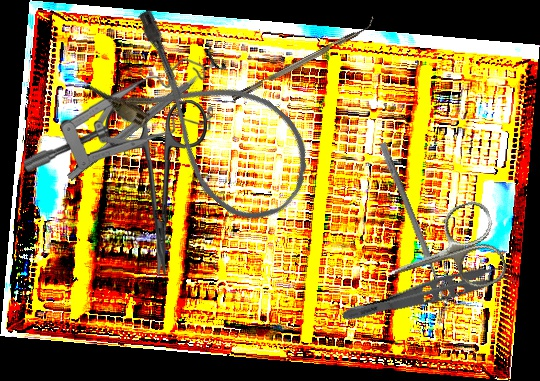Cannula: (79, 1, 333, 240)
Chopper: (227, 14, 379, 102)
Fixation Ring: (59, 45, 229, 190)
Iris Scissors: (104, 100, 210, 278), (374, 197, 511, 314)
Speculum: (22, 57, 214, 173)
Surgical Spoon: (377, 141, 453, 311)
Tissue Forceps: (340, 255, 518, 338)
